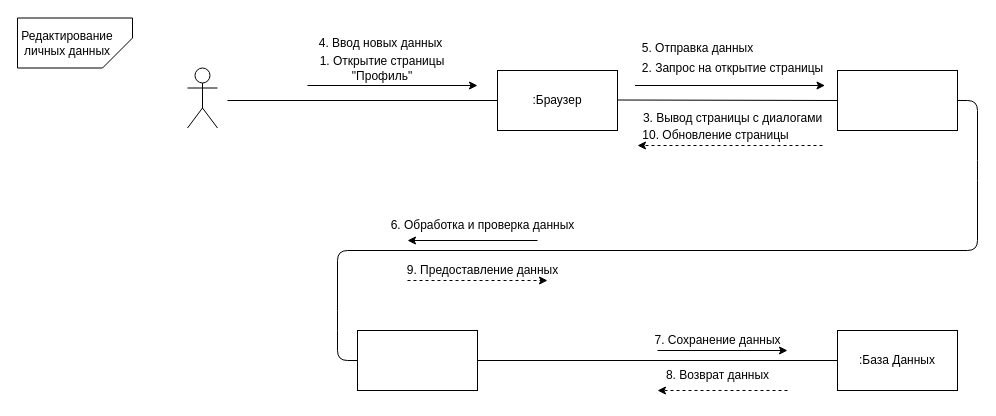
This 996x416 diagram has some shape labels left out. Each missing label, with the centre of its shape:
":Backend" belongs at pixel 417 360.
":Frontend" belongs at pixel 897 100.
